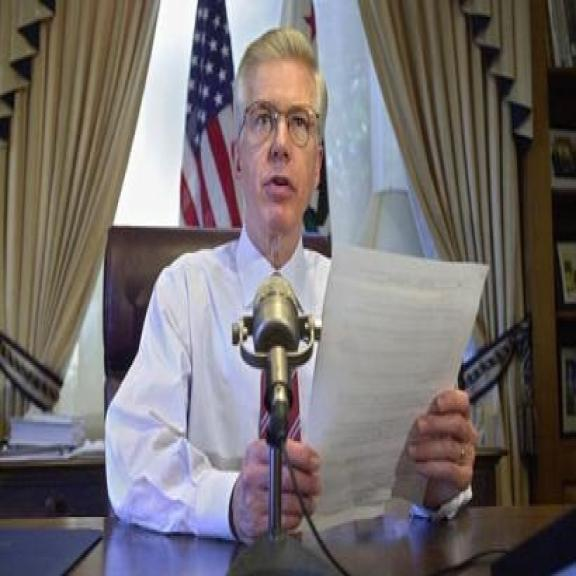face: (230, 65, 329, 228)
